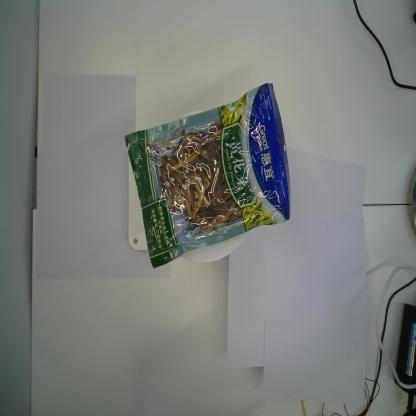Dried Food: (123, 82, 292, 270)
